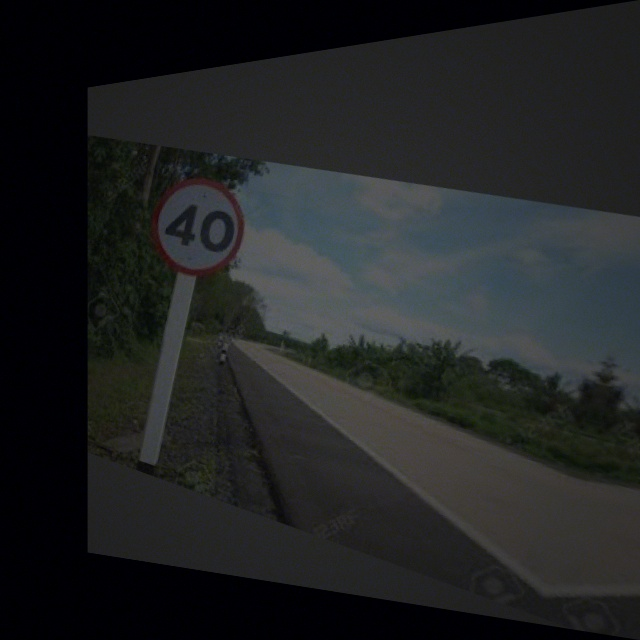Speed_Limit_40: (145, 158, 254, 285)
